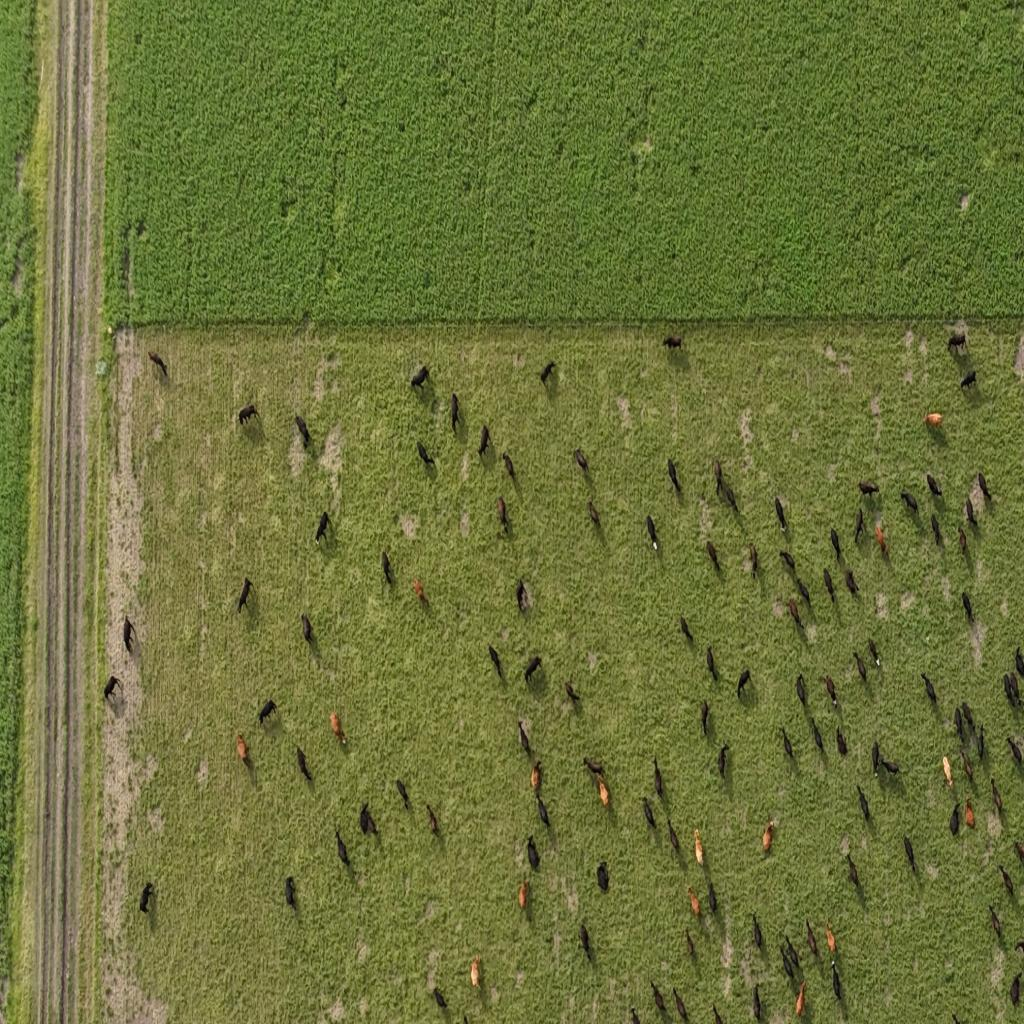cow: (1005, 733, 1023, 769), (237, 577, 254, 614), (296, 744, 312, 782), (103, 674, 123, 704), (903, 834, 918, 874), (330, 712, 347, 747), (314, 511, 331, 545), (294, 412, 310, 448), (582, 754, 604, 780), (795, 576, 812, 609), (673, 987, 689, 1022), (335, 828, 349, 868), (258, 699, 277, 728), (417, 440, 435, 470), (524, 655, 542, 685), (149, 350, 168, 378), (668, 456, 682, 494), (122, 616, 136, 654), (651, 981, 667, 1014), (762, 819, 777, 854), (488, 644, 503, 679), (785, 933, 800, 968), (856, 785, 870, 822), (574, 447, 590, 479), (788, 598, 803, 632), (853, 650, 868, 684), (961, 700, 976, 734), (238, 404, 259, 428), (846, 852, 860, 888), (1000, 864, 1014, 900), (988, 902, 1002, 938), (922, 672, 937, 705), (410, 365, 429, 391), (991, 776, 1004, 814), (646, 514, 659, 552), (426, 802, 440, 837), (518, 719, 531, 756), (806, 918, 818, 958), (140, 882, 155, 914), (706, 541, 721, 573), (579, 922, 591, 962), (844, 568, 860, 598), (978, 472, 994, 502), (642, 797, 656, 831), (587, 498, 601, 532), (478, 424, 492, 458), (516, 579, 530, 613), (564, 678, 581, 706), (930, 513, 944, 547), (653, 755, 664, 798), (774, 496, 787, 532), (527, 836, 540, 872), (596, 861, 610, 894), (831, 960, 842, 1002), (947, 331, 967, 354), (926, 472, 943, 499), (1010, 671, 1022, 709), (961, 749, 974, 784), (412, 576, 427, 606), (737, 668, 752, 698), (900, 491, 918, 516), (824, 674, 838, 706), (502, 451, 516, 483), (396, 778, 410, 810), (830, 528, 842, 565), (718, 744, 730, 781), (875, 522, 888, 556), (236, 733, 249, 767), (537, 794, 550, 828), (795, 978, 806, 1018), (668, 816, 680, 852), (706, 644, 718, 680), (824, 568, 836, 604), (1010, 972, 1022, 1008), (752, 912, 763, 951), (285, 875, 297, 910), (724, 484, 738, 514), (880, 756, 900, 777), (858, 479, 880, 498), (497, 495, 508, 533), (868, 638, 881, 670), (942, 754, 954, 788), (688, 885, 700, 919), (779, 550, 796, 574), (966, 494, 978, 528), (962, 590, 974, 624), (782, 729, 794, 763), (812, 720, 824, 754), (780, 944, 791, 981), (694, 826, 704, 866), (382, 550, 393, 586), (366, 809, 380, 837), (540, 361, 555, 387), (749, 541, 759, 580), (518, 876, 529, 911), (300, 613, 312, 645), (700, 699, 710, 737), (451, 394, 461, 432), (680, 615, 693, 644), (960, 370, 977, 392), (796, 673, 807, 707), (950, 802, 961, 836), (836, 727, 848, 758), (712, 459, 722, 496), (954, 705, 964, 742), (598, 775, 609, 808), (470, 955, 481, 988), (854, 508, 864, 544), (753, 983, 762, 1022), (976, 723, 985, 761), (826, 920, 836, 954), (965, 796, 975, 830), (708, 881, 718, 915), (1004, 674, 1014, 708), (433, 986, 447, 1010), (871, 740, 880, 776), (531, 760, 541, 792), (662, 334, 682, 350), (359, 802, 368, 837), (924, 412, 942, 429), (958, 525, 967, 557), (686, 930, 695, 960), (712, 1003, 724, 1024), (1017, 838, 1024, 868), (630, 1004, 640, 1024), (1018, 647, 1024, 679)
